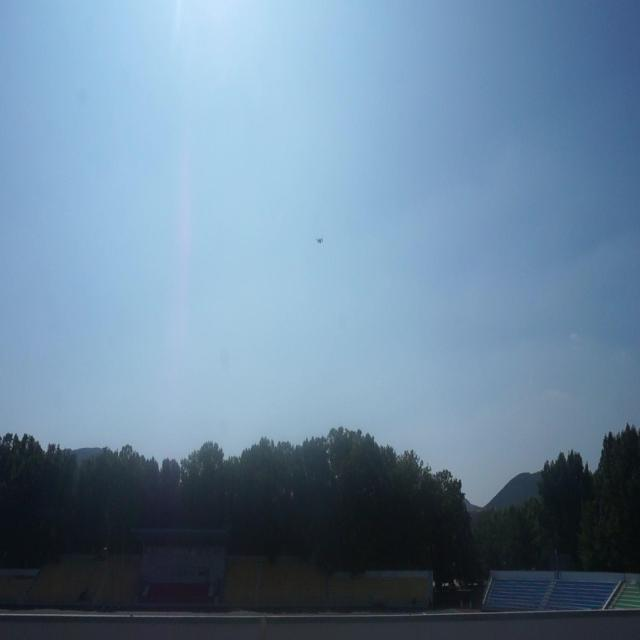drone: (314, 233, 326, 247)
